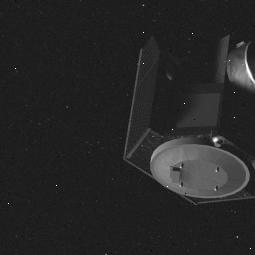cheops: (115, 32, 255, 214)
